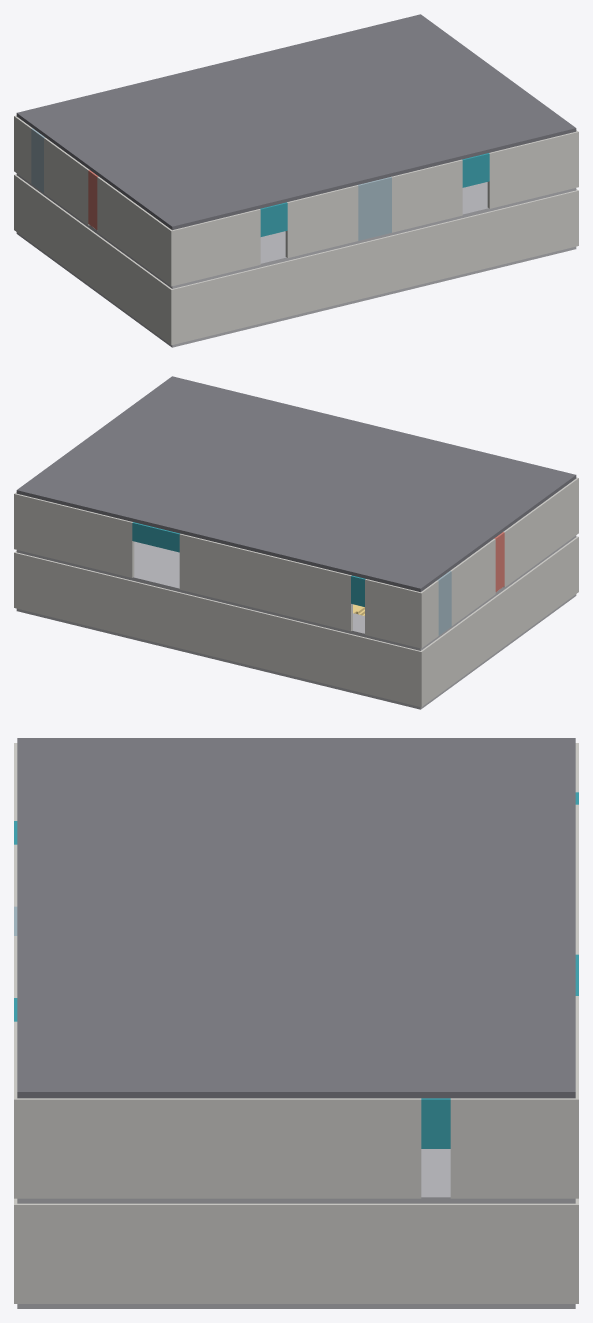
Rendered from landmark_hall_a03.glb.
The picture shows the model from 3 angles, top to bottom: view 1: azimuth 30°, elevation 25°; view 2: azimuth 150°, elevation 25°; view 3: azimuth 270°, elevation 25°; orthographic projection. The views are drawn at different scales.
Visible parts, largest first — view 1: slab_1_t0_0, slab_1_t0_1, slab_1_t0_3, slab_1_t0_7, slab_1_t0_5, slab_1_t0_2, slab_1_t0_6, slab_1_t0_4, slab_1_t4_0, slab_1_t3_0, slab_1_t2_0, slab_1_t1_0 (+89 smaller); view 2: slab_1_t4_0, slab_1_t4_1, slab_1_t4_3, slab_1_t4_7, slab_1_t4_5, slab_1_t4_2, slab_1_t4_6, slab_1_t4_4, slab_1_t0_0, slab_1_t1_0, slab_1_t2_0, slab_1_t3_0 (+86 smaller); view 3: slab_1_t2_7, slab_1_t0_7, slab_1_t1_7, slab_1_t3_7, slab_1_t4_7, slab_1_t2_1, slab_1_t2_6, slab_1_t2_0, slab_1_t2_2, slab_1_t2_3, slab_1_t2_4, slab_1_t2_5 (+58 smaller).
Boxes of the visible parts, x1,y1,x2,y2 form: slab_1_t0_0: (141, 191, 222, 230); slab_1_t0_1: (192, 179, 273, 217); slab_1_t0_3: (293, 154, 374, 192); slab_1_t0_7: (495, 105, 576, 143); slab_1_t0_5: (394, 130, 475, 168); slab_1_t0_2: (242, 167, 323, 205); slab_1_t0_6: (444, 117, 525, 156); slab_1_t0_4: (343, 142, 424, 180); slab_1_t4_0: (16, 100, 97, 138); slab_1_t3_0: (47, 123, 128, 161); slab_1_t2_0: (79, 146, 159, 184); slab_1_t1_0: (110, 169, 190, 206); slab_1_t4_0: (370, 553, 451, 592); slab_1_t4_1: (319, 541, 400, 579); slab_1_t4_3: (218, 516, 299, 554); slab_1_t4_7: (16, 467, 97, 505); slab_1_t4_5: (117, 492, 198, 530); slab_1_t4_2: (269, 529, 350, 567); slab_1_t4_6: (67, 479, 148, 518); slab_1_t4_4: (168, 504, 249, 542); slab_1_t0_0: (495, 462, 576, 500); slab_1_t1_0: (464, 485, 545, 523); slab_1_t2_0: (433, 508, 513, 546); slab_1_t3_0: (402, 531, 482, 568); slab_1_t2_7: (240, 1047, 352, 1098); slab_1_t0_7: (17, 1047, 128, 1098); slab_1_t1_7: (129, 1047, 240, 1098); slab_1_t3_7: (352, 1047, 463, 1098); slab_1_t4_7: (464, 1047, 575, 1098); slab_1_t2_1: (240, 782, 352, 826); slab_1_t2_6: (240, 1003, 352, 1047); slab_1_t2_0: (240, 738, 352, 782); slab_1_t2_2: (240, 826, 352, 870); slab_1_t2_3: (240, 870, 352, 914); slab_1_t2_4: (240, 915, 352, 959); slab_1_t2_5: (240, 959, 352, 1003).
Size of what is drawn, in the model's own units: 36.3 by 10.3 by 24.3.
